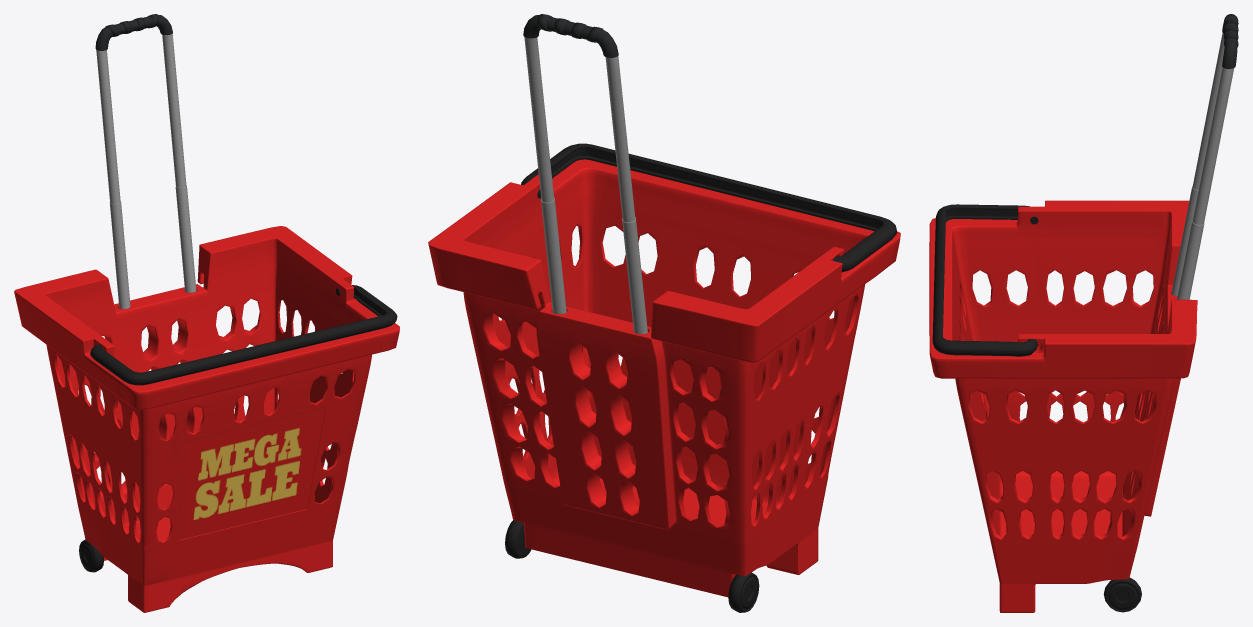
The model's file is Shopping_Basket.gltf.
The picture shows the model from 3 angles, left to right: view 1: azimuth 30°, elevation 25°; view 2: azimuth 150°, elevation 25°; view 3: azimuth 270°, elevation 25°; orthographic projection. The views are drawn at different scales.
Visible parts, largest first — view 1: Body, Label, HandleB, Rod2, Rod1, HandleA, Wheels; view 2: Body, HandleB, Rod2, Rod1, Wheels, HandleA; view 3: Body, HandleB, Rod2, Rod1, Wheels, HandleA.
Part boxes in pixels (x1,y1,x2,y2): Body: (14,226,399,612); Label: (178,408,325,539); HandleB: (90,285,397,385); Rod2: (96,34,186,203); Rod1: (109,185,196,309); HandleA: (95,14,172,50); Wheels: (79,539,103,572); Body: (428,159,900,597); HandleB: (521,143,897,272); Rod2: (524,37,635,222); Rod1: (541,197,647,333); Wheels: (505,520,759,612); HandleA: (523,14,618,57); Body: (929,200,1197,612); HandleB: (932,204,1037,356); Rod2: (1192,33,1234,224); Rod1: (1171,186,1204,299); Wheels: (1103,577,1141,612); HandleA: (1222,14,1238,68).
Bounding box in the file's own units: 0.4992 × 0.8655 × 0.452.
Materials: 8 (8 with a texture image).
